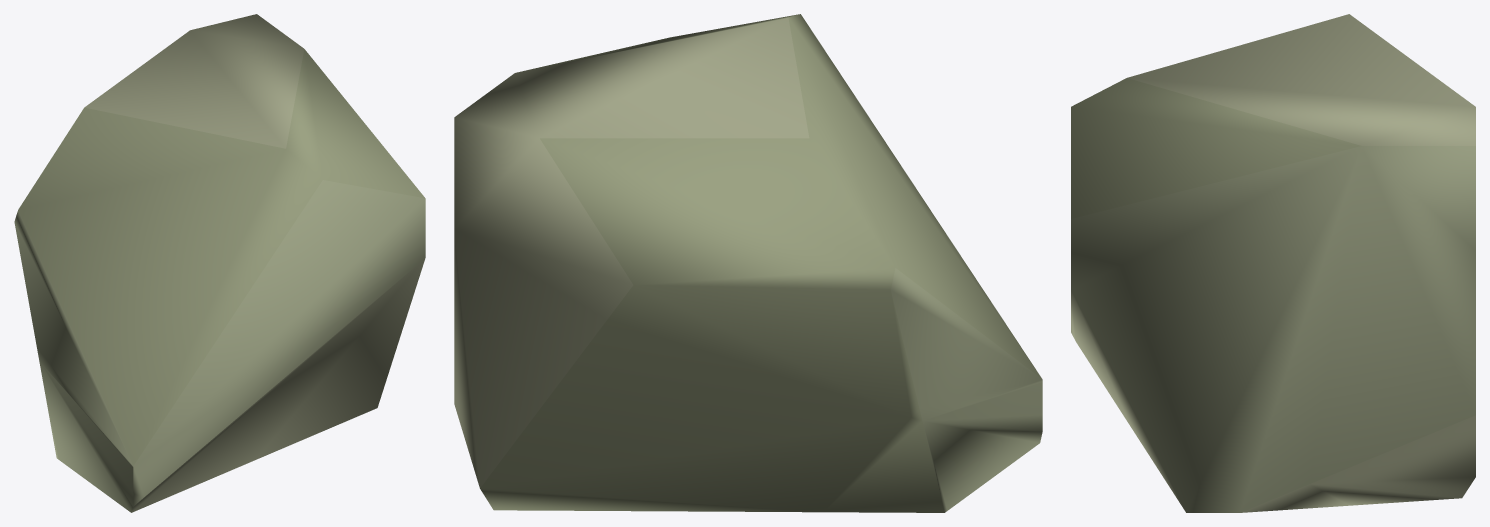
The model's file is lrock4.glb.
3 renders of one model, left to right at view 1: azimuth 30°, elevation 25°; view 2: azimuth 150°, elevation 25°; view 3: azimuth 270°, elevation 25°, orthographic. The views are drawn at different scales.
Visible parts, largest first — view 1: lrock4; view 2: lrock4; view 3: lrock4.
Part boxes in pixels (bbox=[...]): lrock4: bbox=[14, 14, 425, 512]; lrock4: bbox=[454, 14, 1042, 512]; lrock4: bbox=[1071, 14, 1475, 512].
Bounding box in the file's own units: 8 × 8 × 8.
